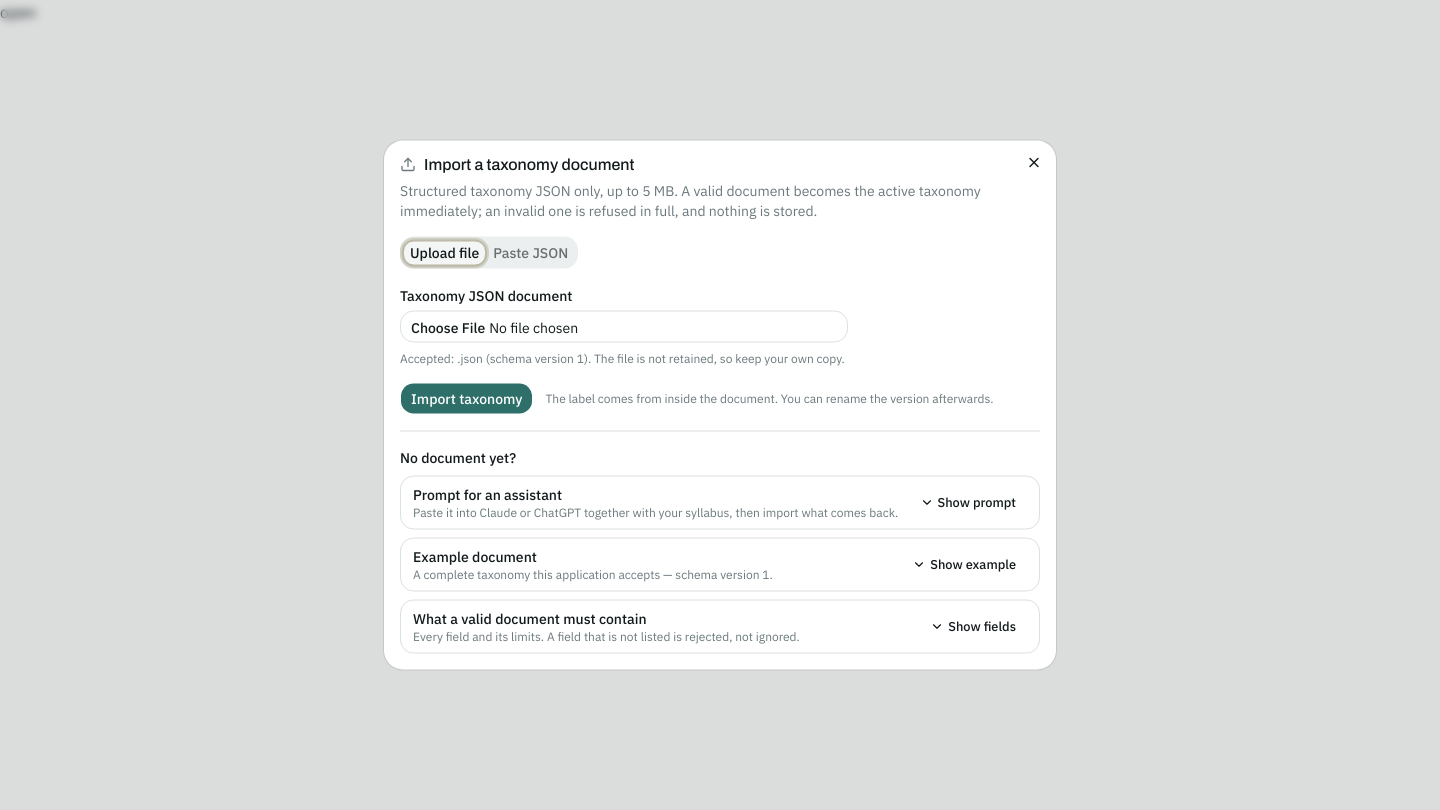
Test: TaxonomyImportDialog › does not send text that is not JSON, and says why
The width and height of the screenshot is (1440, 810).
Click the tab "Paste JSON": (531, 252) x1=486 y1=240 x2=575 y2=265
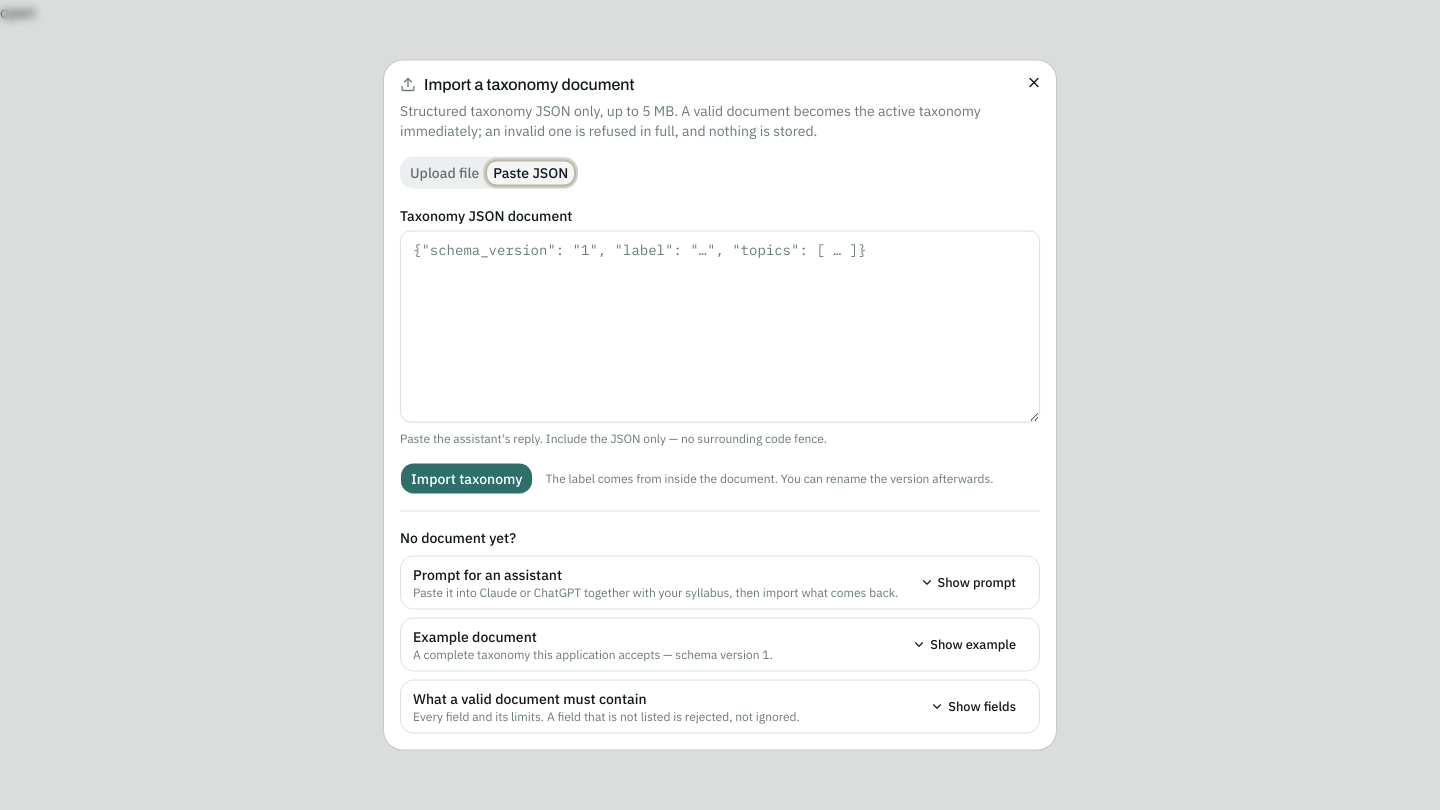
Click the text box labelled "Taxonomy JSON document": (720, 326) x1=400 y1=230 x2=1040 y2=422
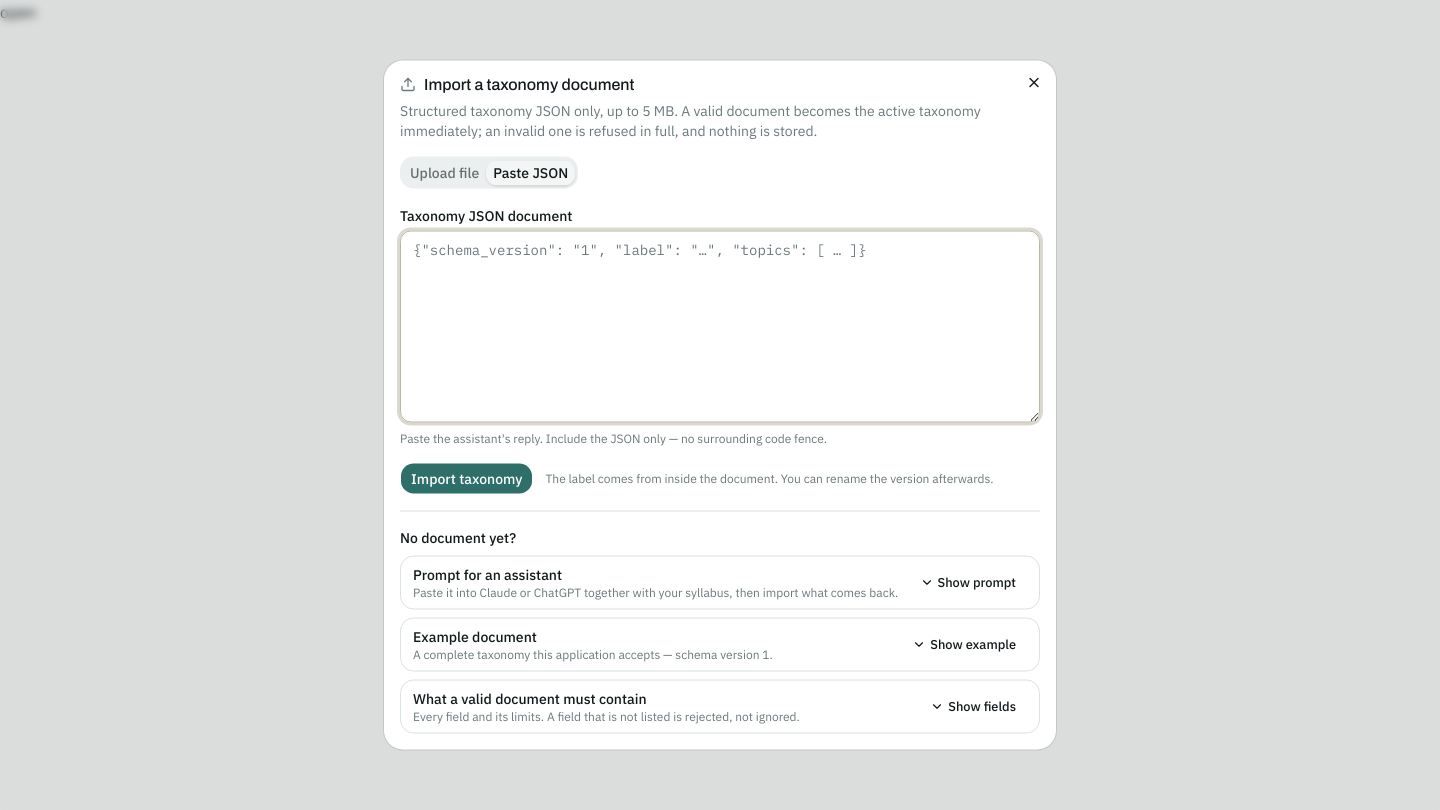
Type keys "not json"
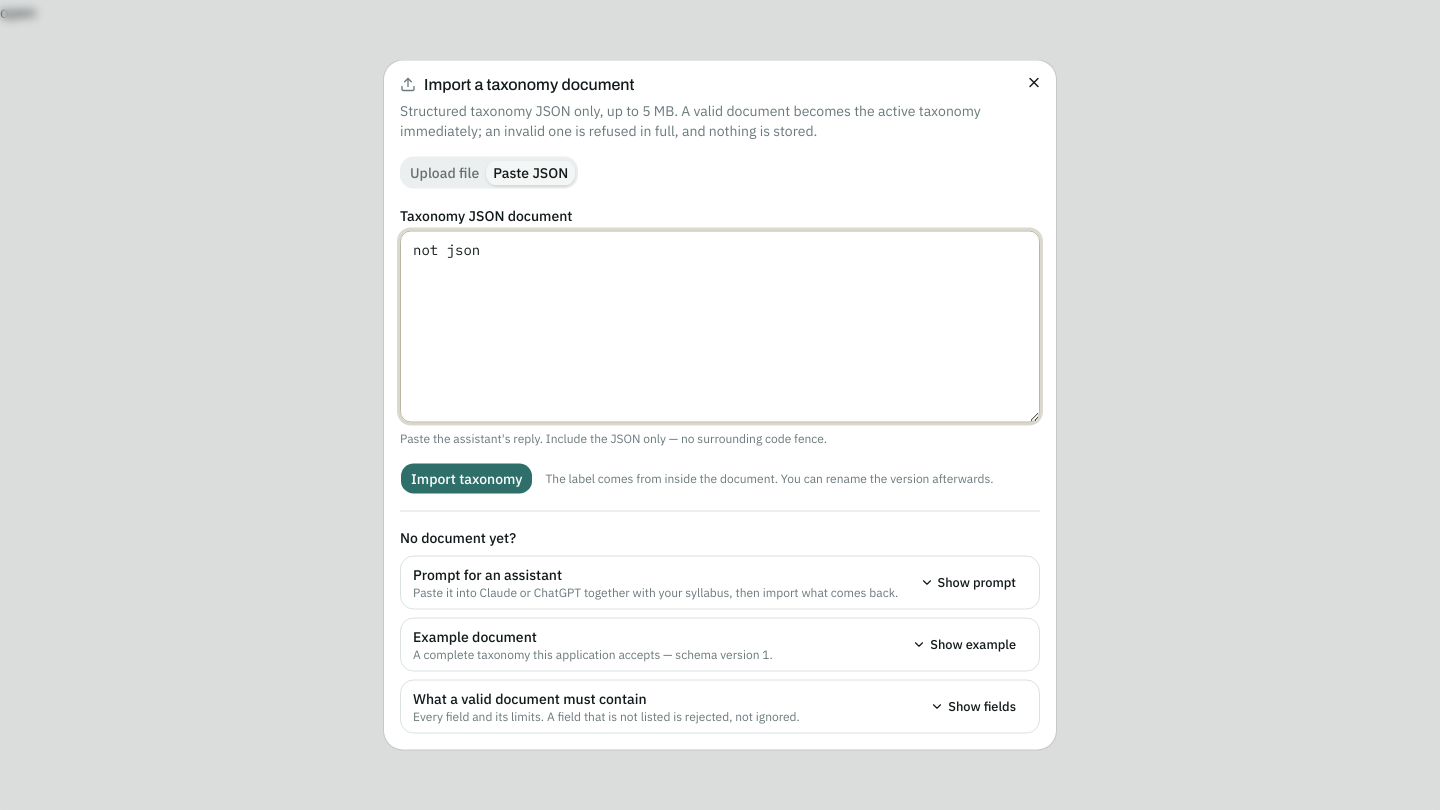
Click the button "Import taxonomy": (467, 478) x1=400 y1=462 x2=534 y2=494
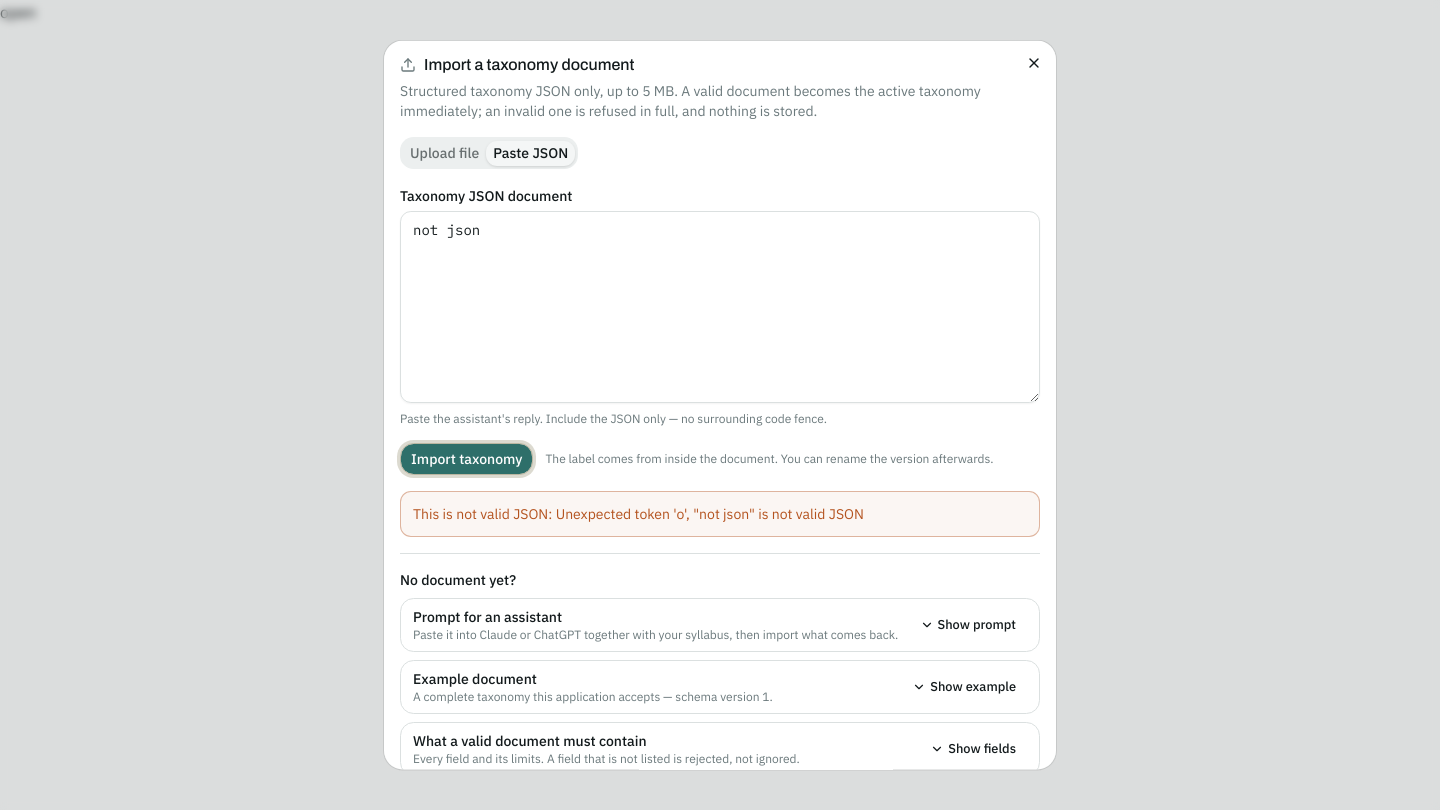
Result: the text "not valid JSON" is shown at x1=413 y1=504 x2=864 y2=522
